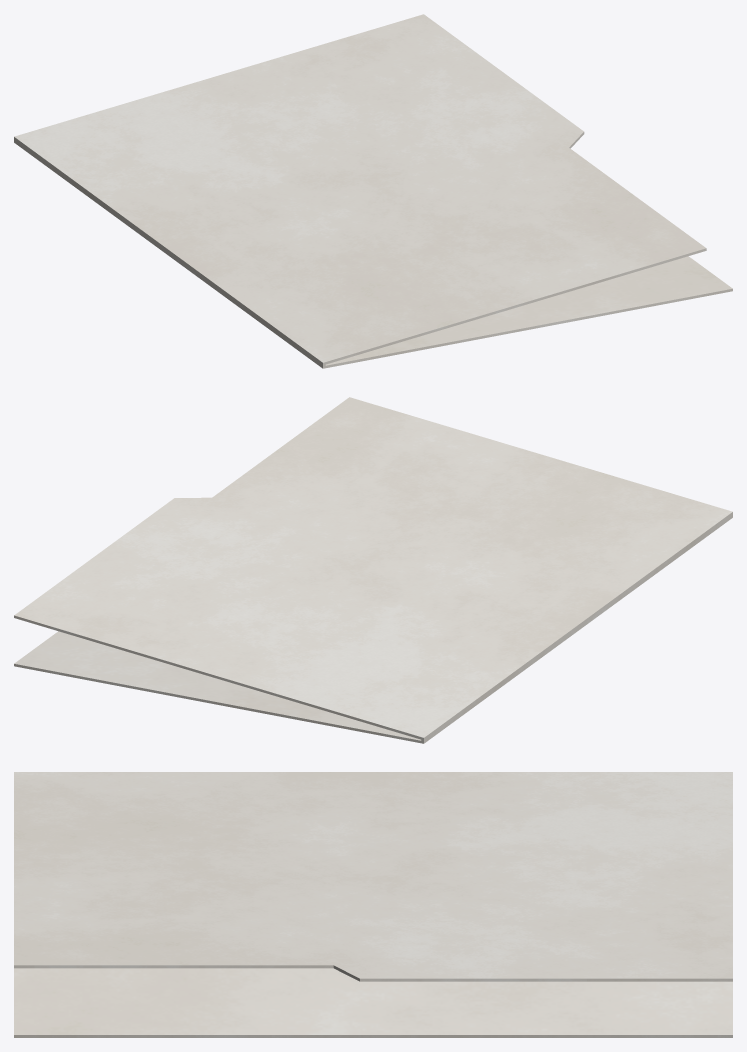
Rendered from FileFolder_half-closed.fbx.
The picture shows the model from 3 angles, top to bottom: view 1: azimuth 30°, elevation 25°; view 2: azimuth 150°, elevation 25°; view 3: azimuth 270°, elevation 25°; orthographic projection. The views are drawn at different scales.
Parts seen in each view (by area): view 1: FileFolder_half-closed; view 2: FileFolder_half-closed; view 3: FileFolder_half-closed.
Boxes of the visible parts, x1=… form: FileFolder_half-closed: x1=14, y1=14, x2=732, y2=368; FileFolder_half-closed: x1=14, y1=397, x2=732, y2=743; FileFolder_half-closed: x1=14, y1=772, x2=732, y2=1037.
Bounding box in the file's own units: 153 × 18.17 × 200.
